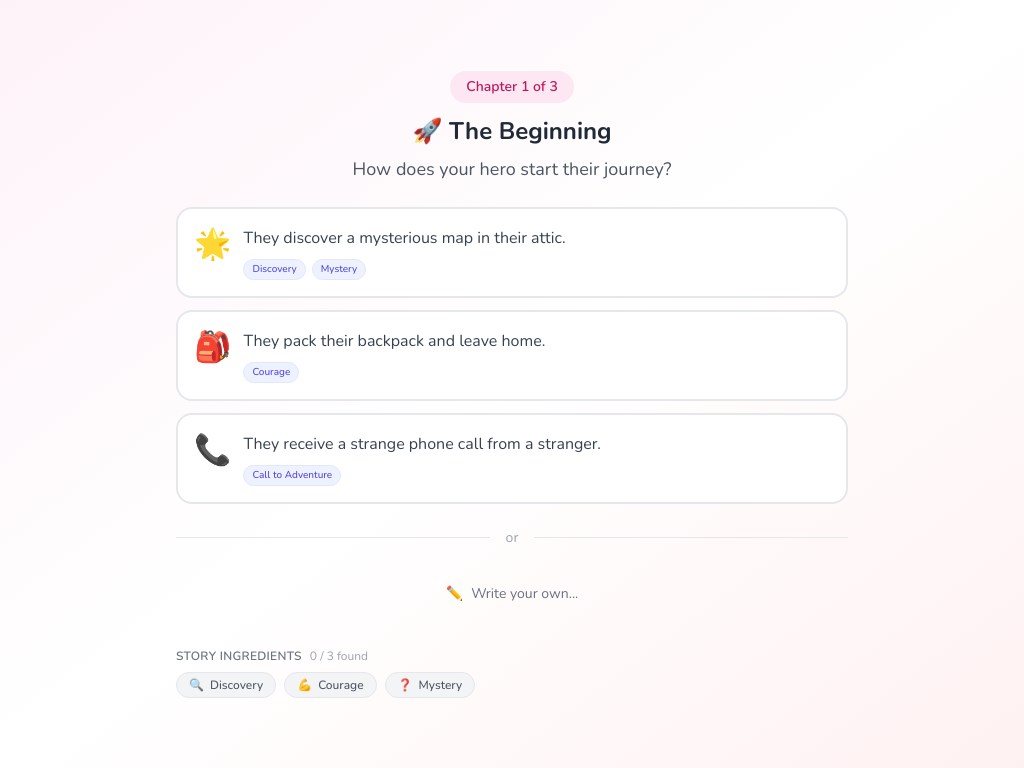
Scenario: ChapterScreen › disables other choices after selection
The width and height of the screenshot is (1024, 768).
What coordinates should you click on to do the following:
click the button "They discover a mysterious map in their attic."
I would click on:
 (213, 244)
Its box is [176,206,848,298].
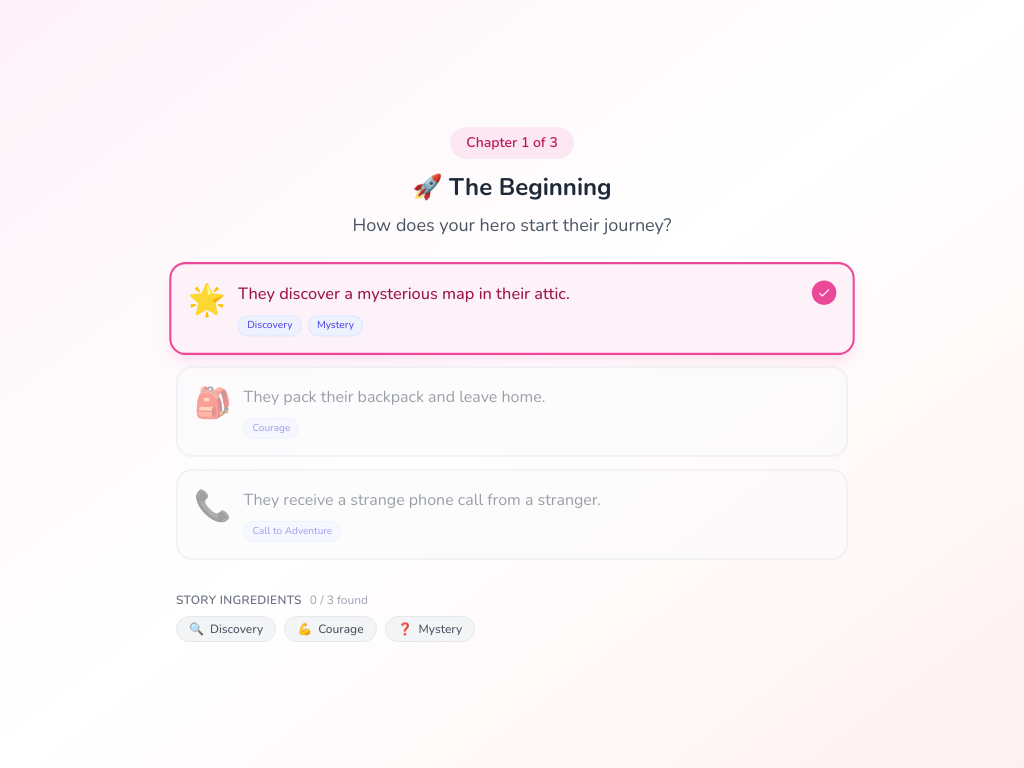
Expected: the button "They discover a mysterious map in their attic." is enabled, [169,262,855,354]
Now the button "They pack their backpack and leave home." is disabled, box [176,366,848,456]
